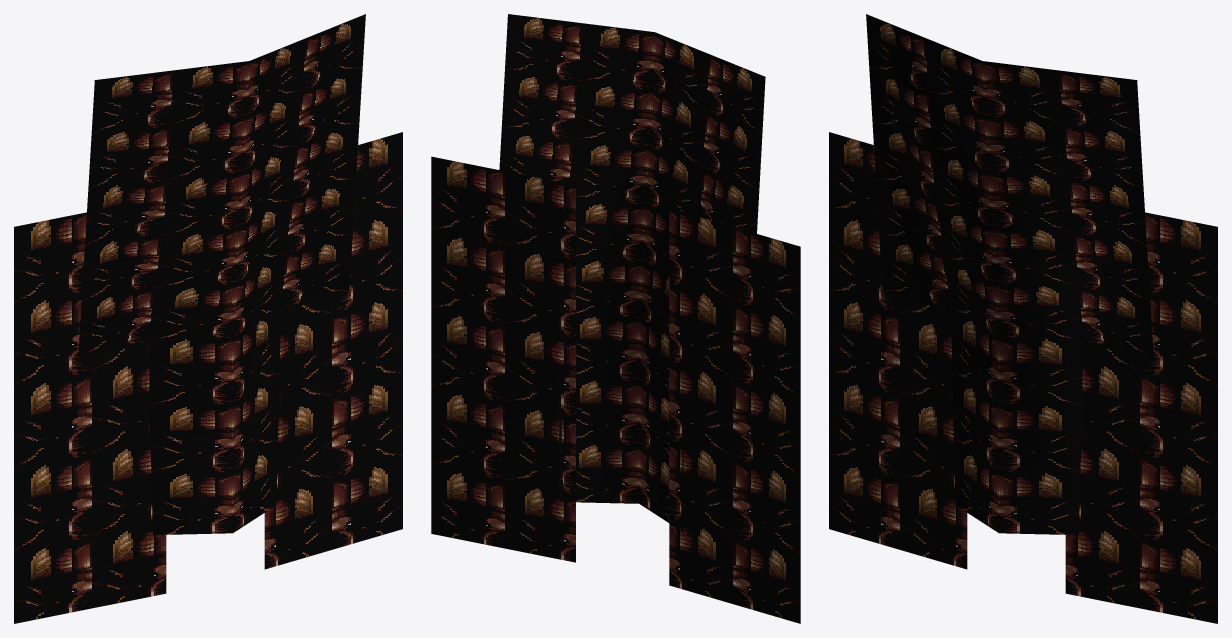
File: 5011musi21_e.gltf
3 views of the same model, side by side, from view 1: azimuth 30°, elevation 25°; view 2: azimuth 150°, elevation 25°; view 3: azimuth 330°, elevation 25° (orthographic). The views are drawn at different scales.
Visible parts, largest first — view 1: 5011musi21_e; view 2: 5011musi21_e; view 3: 5011musi21_e.
Boxes of the visible parts, left/top/right/bottom form: 5011musi21_e: left=14, top=14, right=402, bottom=623; 5011musi21_e: left=431, top=14, right=800, bottom=623; 5011musi21_e: left=829, top=14, right=1217, bottom=623.
Size of the model in its own units: 0.2129 by 0.2854 by 0.0388.
Materials: 1 (1 with a texture image).
